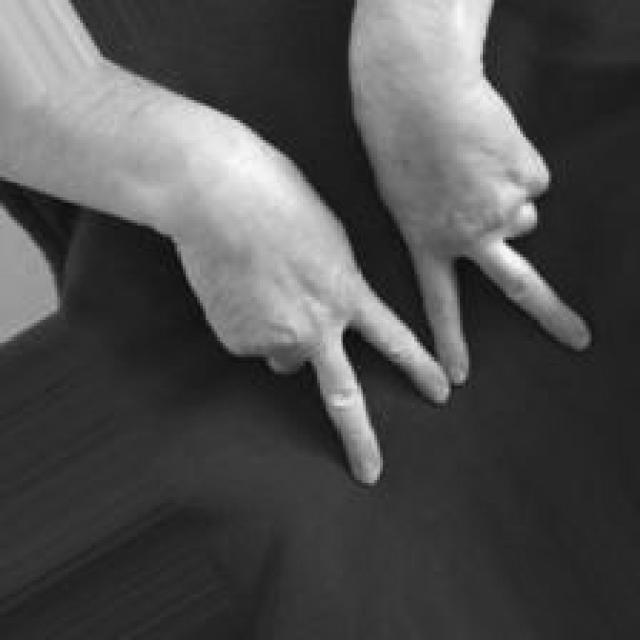M: (167, 12, 606, 493)
